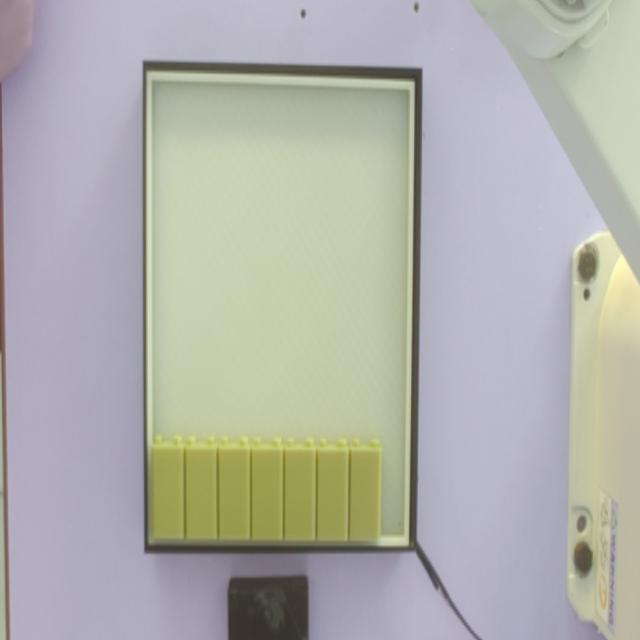bateria: (151, 435, 184, 540), (218, 437, 251, 541), (251, 438, 284, 541), (317, 439, 349, 543), (185, 437, 217, 540), (284, 438, 316, 541), (350, 438, 381, 542)
mesa: (143, 62, 421, 555)
